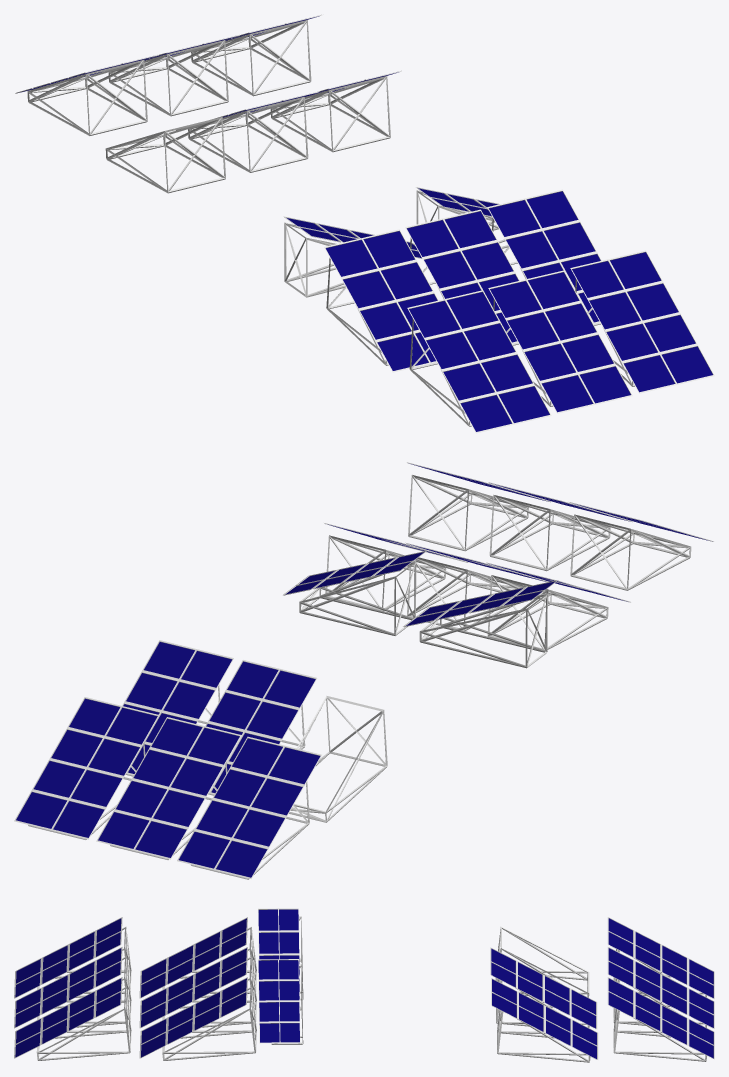
File: 100_paneles.fbx
3 views of the same model, one above another, from view 1: azimuth 30°, elevation 25°; view 2: azimuth 150°, elevation 25°; view 3: azimuth 270°, elevation 25° (orthographic). The views are drawn at different scales.
Parts seen in each view (by area): view 1: Plane.035, Plane.034, Plane.041, Plane.038, Plane.036, Plane.037, Cube.182, Cube.185, Cube.184, Cube.183, Cube.186, Cube.187 (+5 smaller); view 2: Plane.026, Plane.027, Plane.028, Plane.031, Plane.030, Cube.198, Cube.189, Cube.199, Cube.190, Cube.191, Cube.185, Plane.042 (+4 smaller); view 3: Plane.043, Plane.026, Plane.027, Plane.030, Plane.028, Plane.031, Plane.036, Plane.041, Plane.035, Plane.037, Plane.038, Plane.034 (+11 smaller).
Boxes of the visible parts, x1=… form: Plane.035: x1=570, y1=250, x2=714, y2=393; Plane.034: x1=488, y1=270, x2=632, y2=413; Plane.041: x1=407, y1=290, x2=551, y2=433; Plane.038: x1=324, y1=229, x2=438, y2=372; Plane.036: x1=487, y1=189, x2=601, y2=323; Plane.037: x1=405, y1=209, x2=519, y2=343; Cube.182: x1=27, y1=59, x2=147, y2=135; Cube.185: x1=105, y1=117, x2=225, y2=193; Cube.184: x1=191, y1=19, x2=311, y2=96; Cube.183: x1=108, y1=40, x2=228, y2=116; Cube.186: x1=188, y1=96, x2=308, y2=172; Cube.187: x1=270, y1=76, x2=390, y2=152; Plane.026: x1=177, y1=736, x2=321, y2=878; Plane.027: x1=96, y1=717, x2=241, y2=859; Plane.028: x1=14, y1=697, x2=159, y2=839; Plane.031: x1=122, y1=640, x2=233, y2=775; Plane.030: x1=205, y1=660, x2=317, y2=794; Cube.198: x1=419, y1=593, x2=547, y2=668; Cube.189: x1=570, y1=514, x2=691, y2=590; Cube.199: x1=299, y1=561, x2=416, y2=635; Cube.190: x1=489, y1=494, x2=610, y2=571; Cube.191: x1=408, y1=475, x2=528, y2=551; Cube.185: x1=289, y1=695, x2=387, y2=822; Plane.042: x1=403, y1=580, x2=558, y2=627; Plane.043: x1=258, y1=959, x2=300, y2=1043; Plane.026: x1=607, y1=917, x2=714, y2=999; Plane.027: x1=607, y1=947, x2=714, y2=1028; Plane.030: x1=490, y1=947, x2=597, y2=1029; Plane.028: x1=607, y1=977, x2=714, y2=1059; Plane.031: x1=491, y1=978, x2=598, y2=1059; Plane.036: x1=139, y1=977, x2=247, y2=1058; Plane.041: x1=14, y1=917, x2=122, y2=998; Plane.035: x1=14, y1=977, x2=122, y2=1058; Plane.037: x1=139, y1=947, x2=247, y2=1028; Plane.038: x1=139, y1=917, x2=247, y2=998; Plane.034: x1=14, y1=947, x2=122, y2=1028.
Bounding box in the file's own units: 609 × 204 × 1948.
